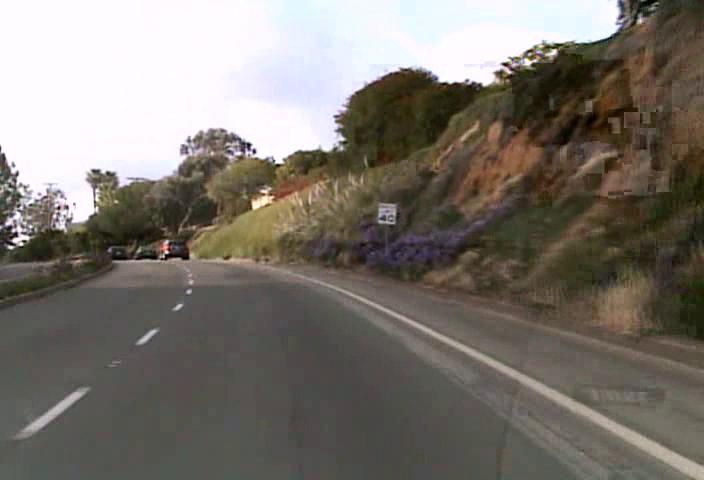speedLimit40: (377, 201, 397, 225)
